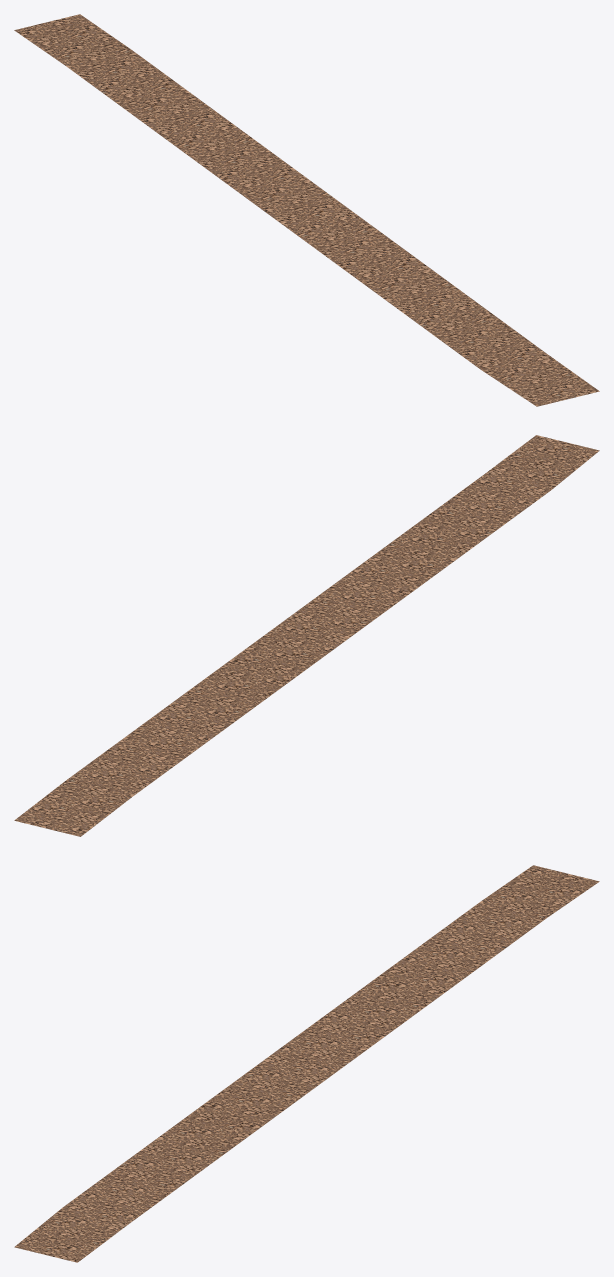
The model's file is dirtalt.obj.
3 views of the same model, one above another, from view 1: azimuth 30°, elevation 25°; view 2: azimuth 150°, elevation 25°; view 3: azimuth 330°, elevation 25° (orthographic).
Visible parts, largest first — view 1: Dirt_Path; view 2: Dirt_Path; view 3: Dirt_Path.
Boxes of the visible parts, bbox=[...] form: Dirt_Path: bbox=[14, 14, 599, 406]; Dirt_Path: bbox=[14, 435, 599, 836]; Dirt_Path: bbox=[14, 865, 599, 1262].
Size of the model in its own units: 1.02 by 0.0312 by 13.6.
Materials: 1 (1 with a texture image).
